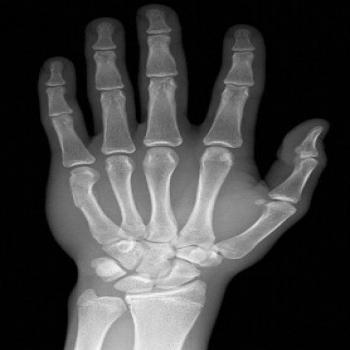Fracture: (62, 183, 103, 207)
